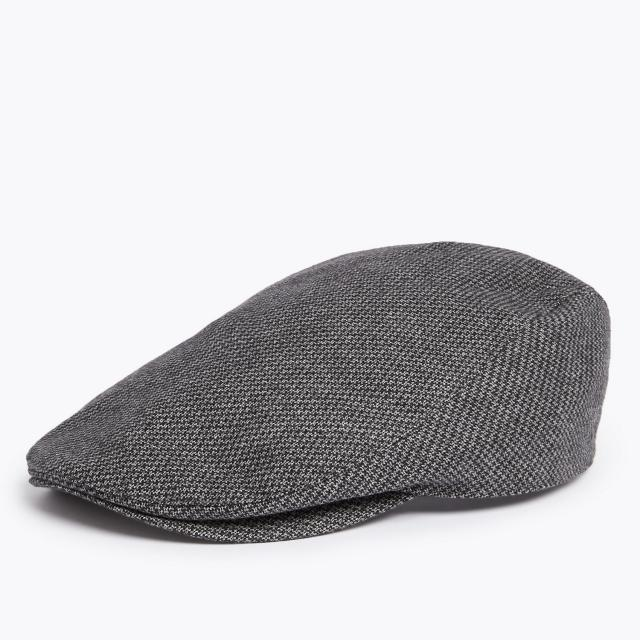Cap: (35, 237, 624, 539)
